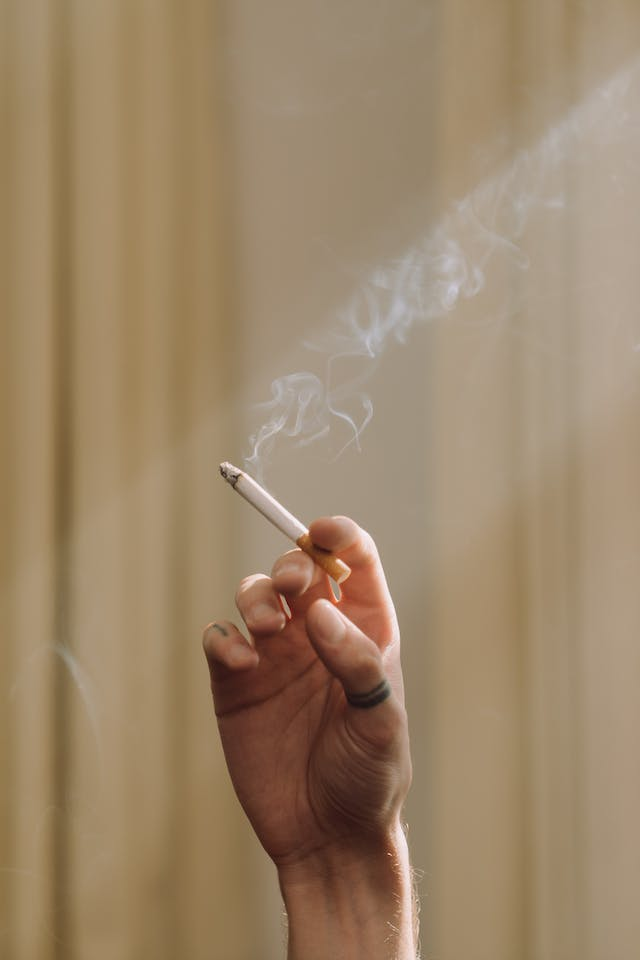Cigarette: (219, 460, 352, 584)
